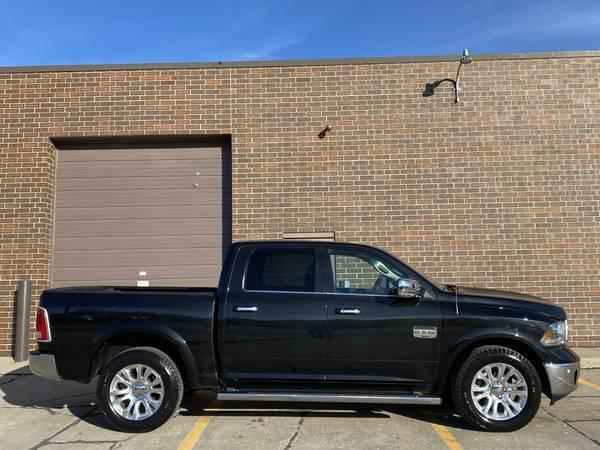Front_Bumper: (537, 346, 582, 400)
Front_Fender: (430, 293, 561, 392)
Front_Right_Door: (326, 294, 439, 397)
Front_Right_Window: (322, 248, 427, 297)
Rear_Bumper: (27, 347, 62, 380)
Rear_Fender: (37, 289, 218, 396)
Rear_Right_Door: (214, 292, 327, 392)
Rear_Right_Window: (243, 246, 322, 293)
Right_Headlight: (539, 320, 572, 349)
Right_Taillight: (35, 304, 50, 342)
Roof: (218, 240, 445, 298)
Wheel: (96, 345, 182, 433), (453, 343, 539, 431)
